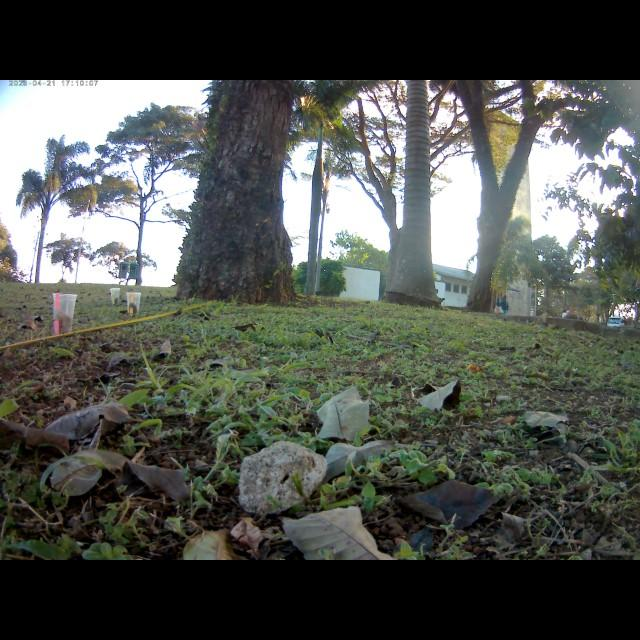arvore: (176, 81, 306, 311)
